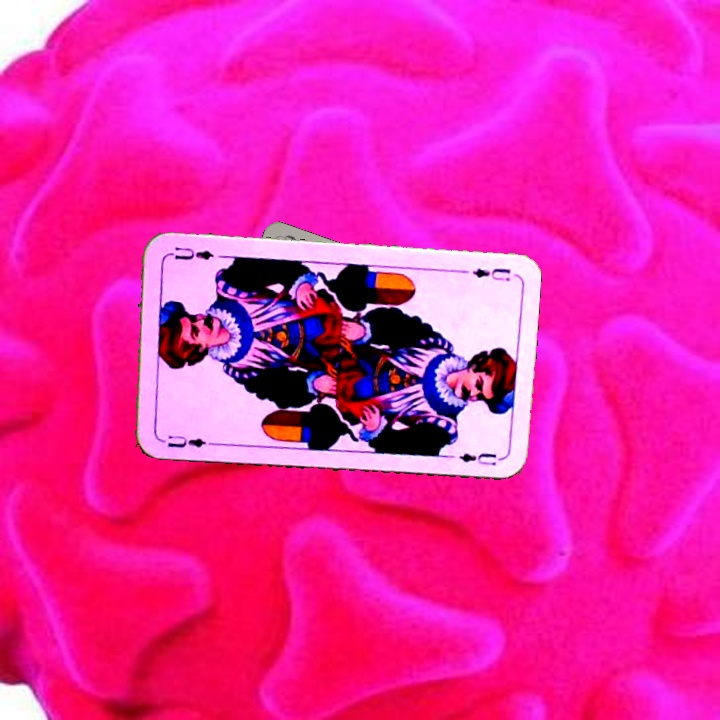EU: (155, 431, 214, 450), (468, 264, 513, 284)
